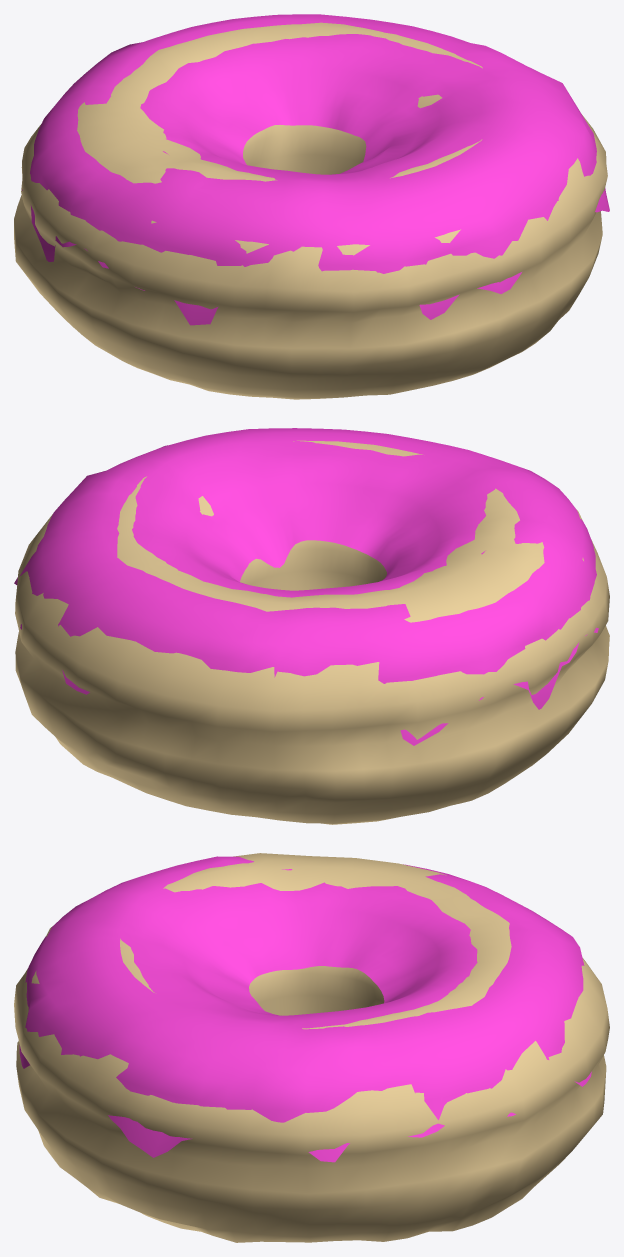
File: DONUT.glb
3 views of the same model, one above another, from view 1: azimuth 30°, elevation 25°; view 2: azimuth 150°, elevation 25°; view 3: azimuth 270°, elevation 25° (orthographic).
Parts seen in each view (by area): view 1: Icing, Donut; view 2: Donut, Icing; view 3: Icing, Donut.
Part boxes in pixels (<box>): Icing: <box>22,14,609,325</box>; Donut: <box>14,22,607,399</box>; Donut: <box>15,440,609,824</box>; Icing: <box>14,428,598,745</box>; Icing: <box>19,856,591,1162</box>; Donut: <box>14,853,609,1242</box>.
Size of the model in its own units: 0.1597 by 0.0621 by 0.1588.
